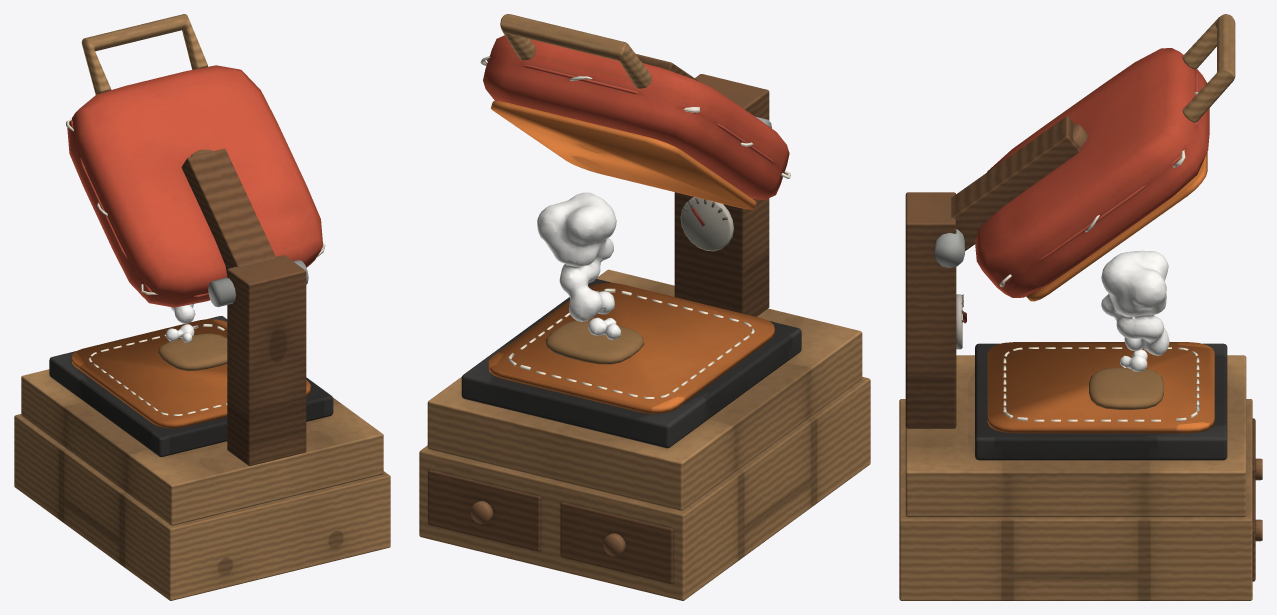
File: giant_heat_press.glb
The picture shows the model from 3 angles, left to right: view 1: azimuth 30°, elevation 25°; view 2: azimuth 150°, elevation 25°; view 3: azimuth 270°, elevation 25°; orthographic projection. The views are drawn at different scales.
Parts seen in each view (by area): view 1: giant_heat_press_wood, giant_heat_press_felt_red, giant_heat_press_wood_dark, giant_heat_press_felt_heat, giant_heat_press_felt_charcoal, giant_heat_press_felt_tan, giant_heat_press_felt_tin, giant_heat_press_steam5, giant_heat_press_thread; view 2: giant_heat_press_wood, giant_heat_press_felt_heat, giant_heat_press_wood_dark, giant_heat_press_felt_red, giant_heat_press_felt_charcoal, giant_heat_press_steam5, giant_heat_press_felt_tan, giant_heat_press_felt_ivory, giant_heat_press_thread, giant_heat_press_button; view 3: giant_heat_press_wood, giant_heat_press_felt_red, giant_heat_press_felt_heat, giant_heat_press_wood_dark, giant_heat_press_felt_charcoal, giant_heat_press_steam5, giant_heat_press_felt_tan, giant_heat_press_thread, giant_heat_press_felt_tin, giant_heat_press_button.
Part boxes in pixels (x1,y1,x2,y2): giant_heat_press_wood: [14, 14, 390, 600]; giant_heat_press_felt_red: [67, 65, 322, 307]; giant_heat_press_wood_dark: [181, 148, 306, 465]; giant_heat_press_felt_heat: [72, 295, 310, 428]; giant_heat_press_felt_charcoal: [49, 316, 333, 456]; giant_heat_press_felt_tan: [158, 333, 227, 370]; giant_heat_press_felt_tin: [208, 260, 308, 306]; giant_heat_press_steam5: [166, 301, 207, 342]; giant_heat_press_thread: [66, 118, 325, 415]; giant_heat_press_wood: [419, 14, 870, 600]; giant_heat_press_felt_heat: [488, 101, 774, 413]; giant_heat_press_wood_dark: [428, 53, 769, 583]; giant_heat_press_felt_red: [483, 35, 789, 200]; giant_heat_press_felt_charcoal: [461, 279, 801, 448]; giant_heat_press_steam5: [537, 192, 620, 339]; giant_heat_press_felt_tan: [545, 320, 644, 364]; giant_heat_press_felt_ivory: [680, 197, 733, 251]; giant_heat_press_thread: [480, 56, 790, 398]; giant_heat_press_button: [470, 501, 625, 556]; giant_heat_press_wood: [899, 14, 1252, 600]; giant_heat_press_felt_red: [975, 48, 1209, 297]; giant_heat_press_felt_heat: [987, 152, 1214, 433]; giant_heat_press_wood_dark: [905, 116, 1255, 581]; giant_heat_press_felt_charcoal: [975, 343, 1227, 460]; giant_heat_press_steam5: [1101, 250, 1169, 371]; giant_heat_press_felt_tan: [1089, 367, 1163, 409]; giant_heat_press_thread: [999, 92, 1199, 421]; giant_heat_press_felt_tin: [934, 229, 964, 267]; giant_heat_press_button: [1073, 124, 1262, 541].
Bounding box in the file's own units: 1.6 × 3.06 × 2.01.
Materials: 13 (10 with a texture image).
